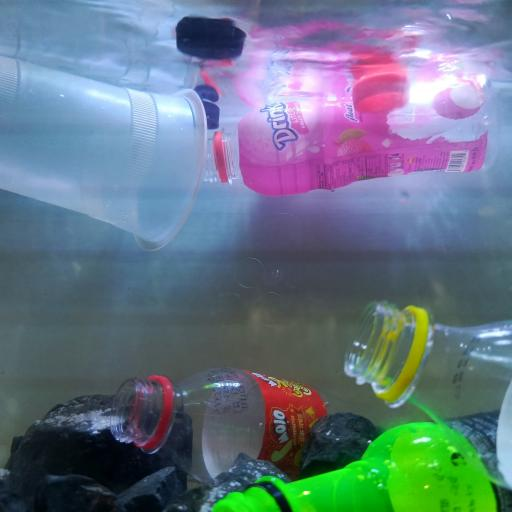bottle_cap: (176, 20, 244, 59), (354, 75, 414, 113), (200, 99, 222, 130)
plastic_bottle: (210, 72, 490, 200), (344, 291, 512, 485), (116, 373, 376, 487), (219, 411, 510, 512)
plastic_cup: (0, 53, 208, 253)
